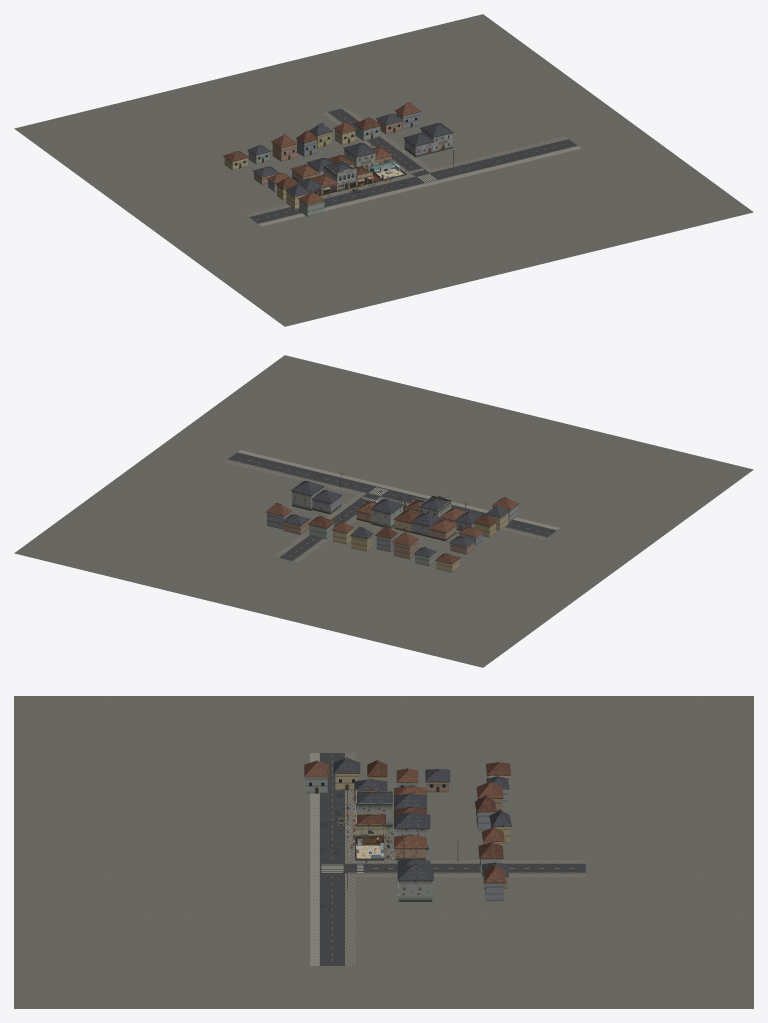
The model's file is necrotorio.glb.
3 views of the same model, one above another, from view 1: azimuth 30°, elevation 25°; view 2: azimuth 150°, elevation 25°; view 3: azimuth 270°, elevation 25° (orthographic). The views are drawn at different scales.
Bounding box in the file's own units: 220 × 10.18 × 220.
448 materials, 111 textured.
